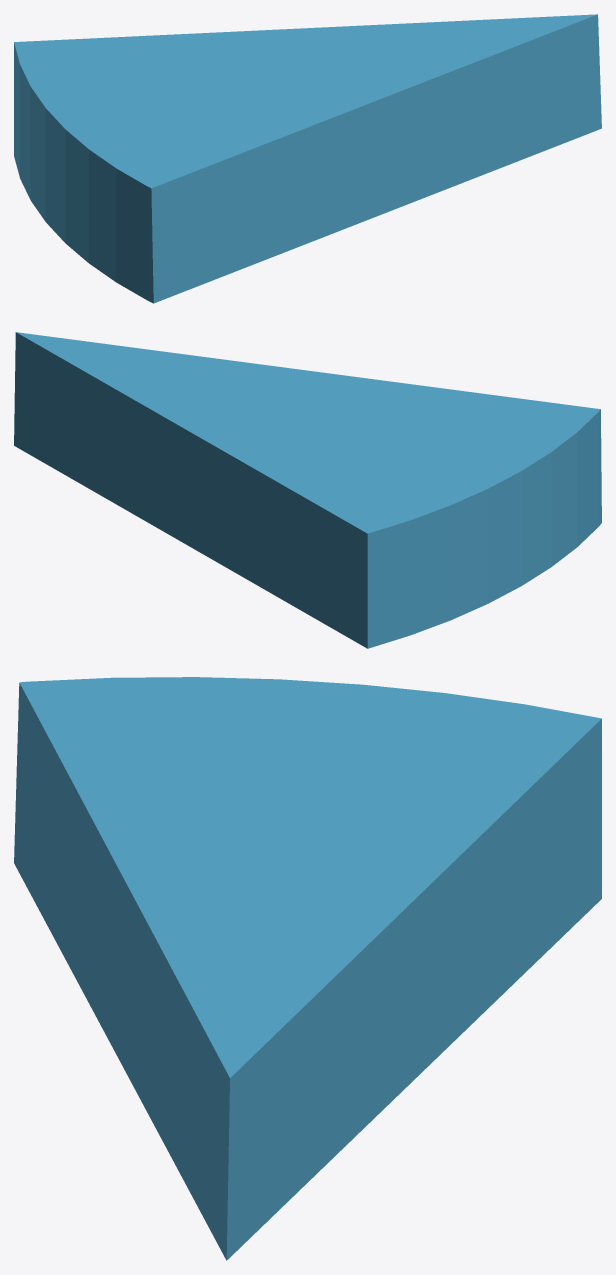
File: floor_haft_piece.fbx
3 renders of one model, top to bottom at view 1: azimuth 30°, elevation 25°; view 2: azimuth 150°, elevation 25°; view 3: azimuth 270°, elevation 25°, orthographic. The views are drawn at different scales.
Parts seen in each view (by area): view 1: Cylinder.008; view 2: Cylinder.008; view 3: Cylinder.008.
Boxes of the visible parts, x1=… form: Cylinder.008: x1=14, y1=14, x2=601, y2=303; Cylinder.008: x1=14, y1=332, x2=601, y2=648; Cylinder.008: x1=14, y1=677, x2=601, y2=1260.
Bounding box in the file's own units: 148 × 30.88 × 91.2.
